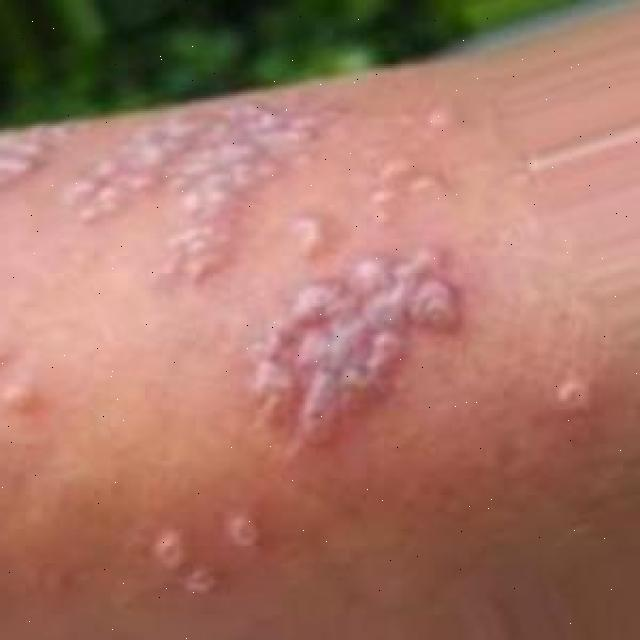Shingles: (58, 98, 341, 287), (252, 249, 462, 449), (152, 511, 258, 591), (0, 132, 57, 188)
